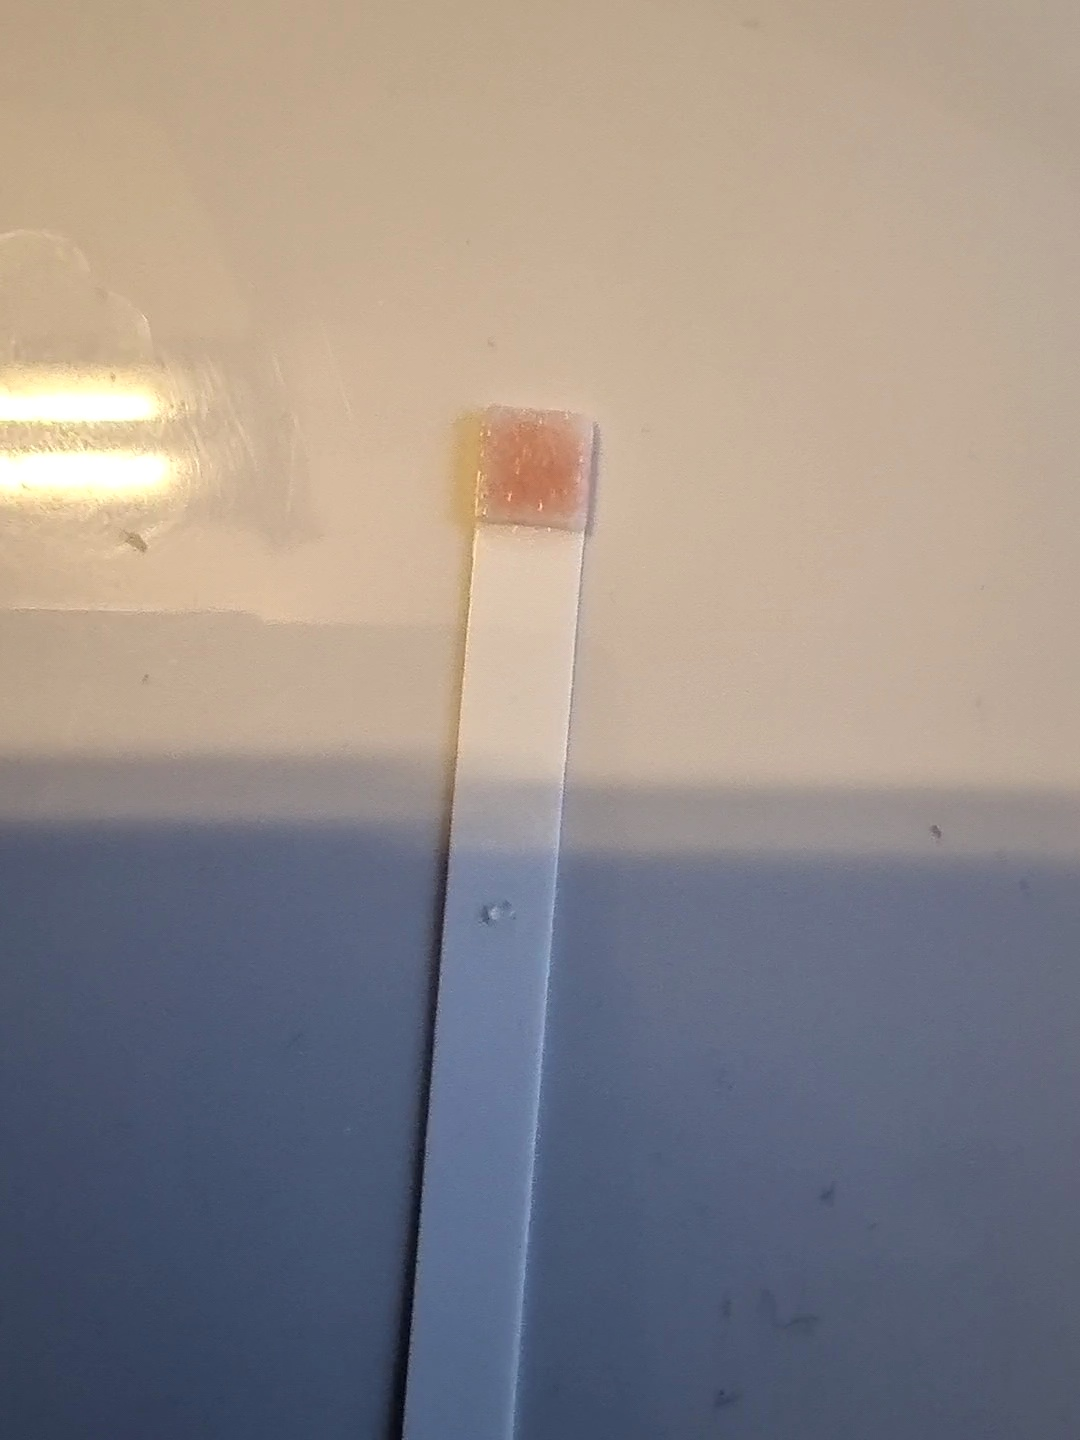keto-tip: (469, 396, 605, 542)
